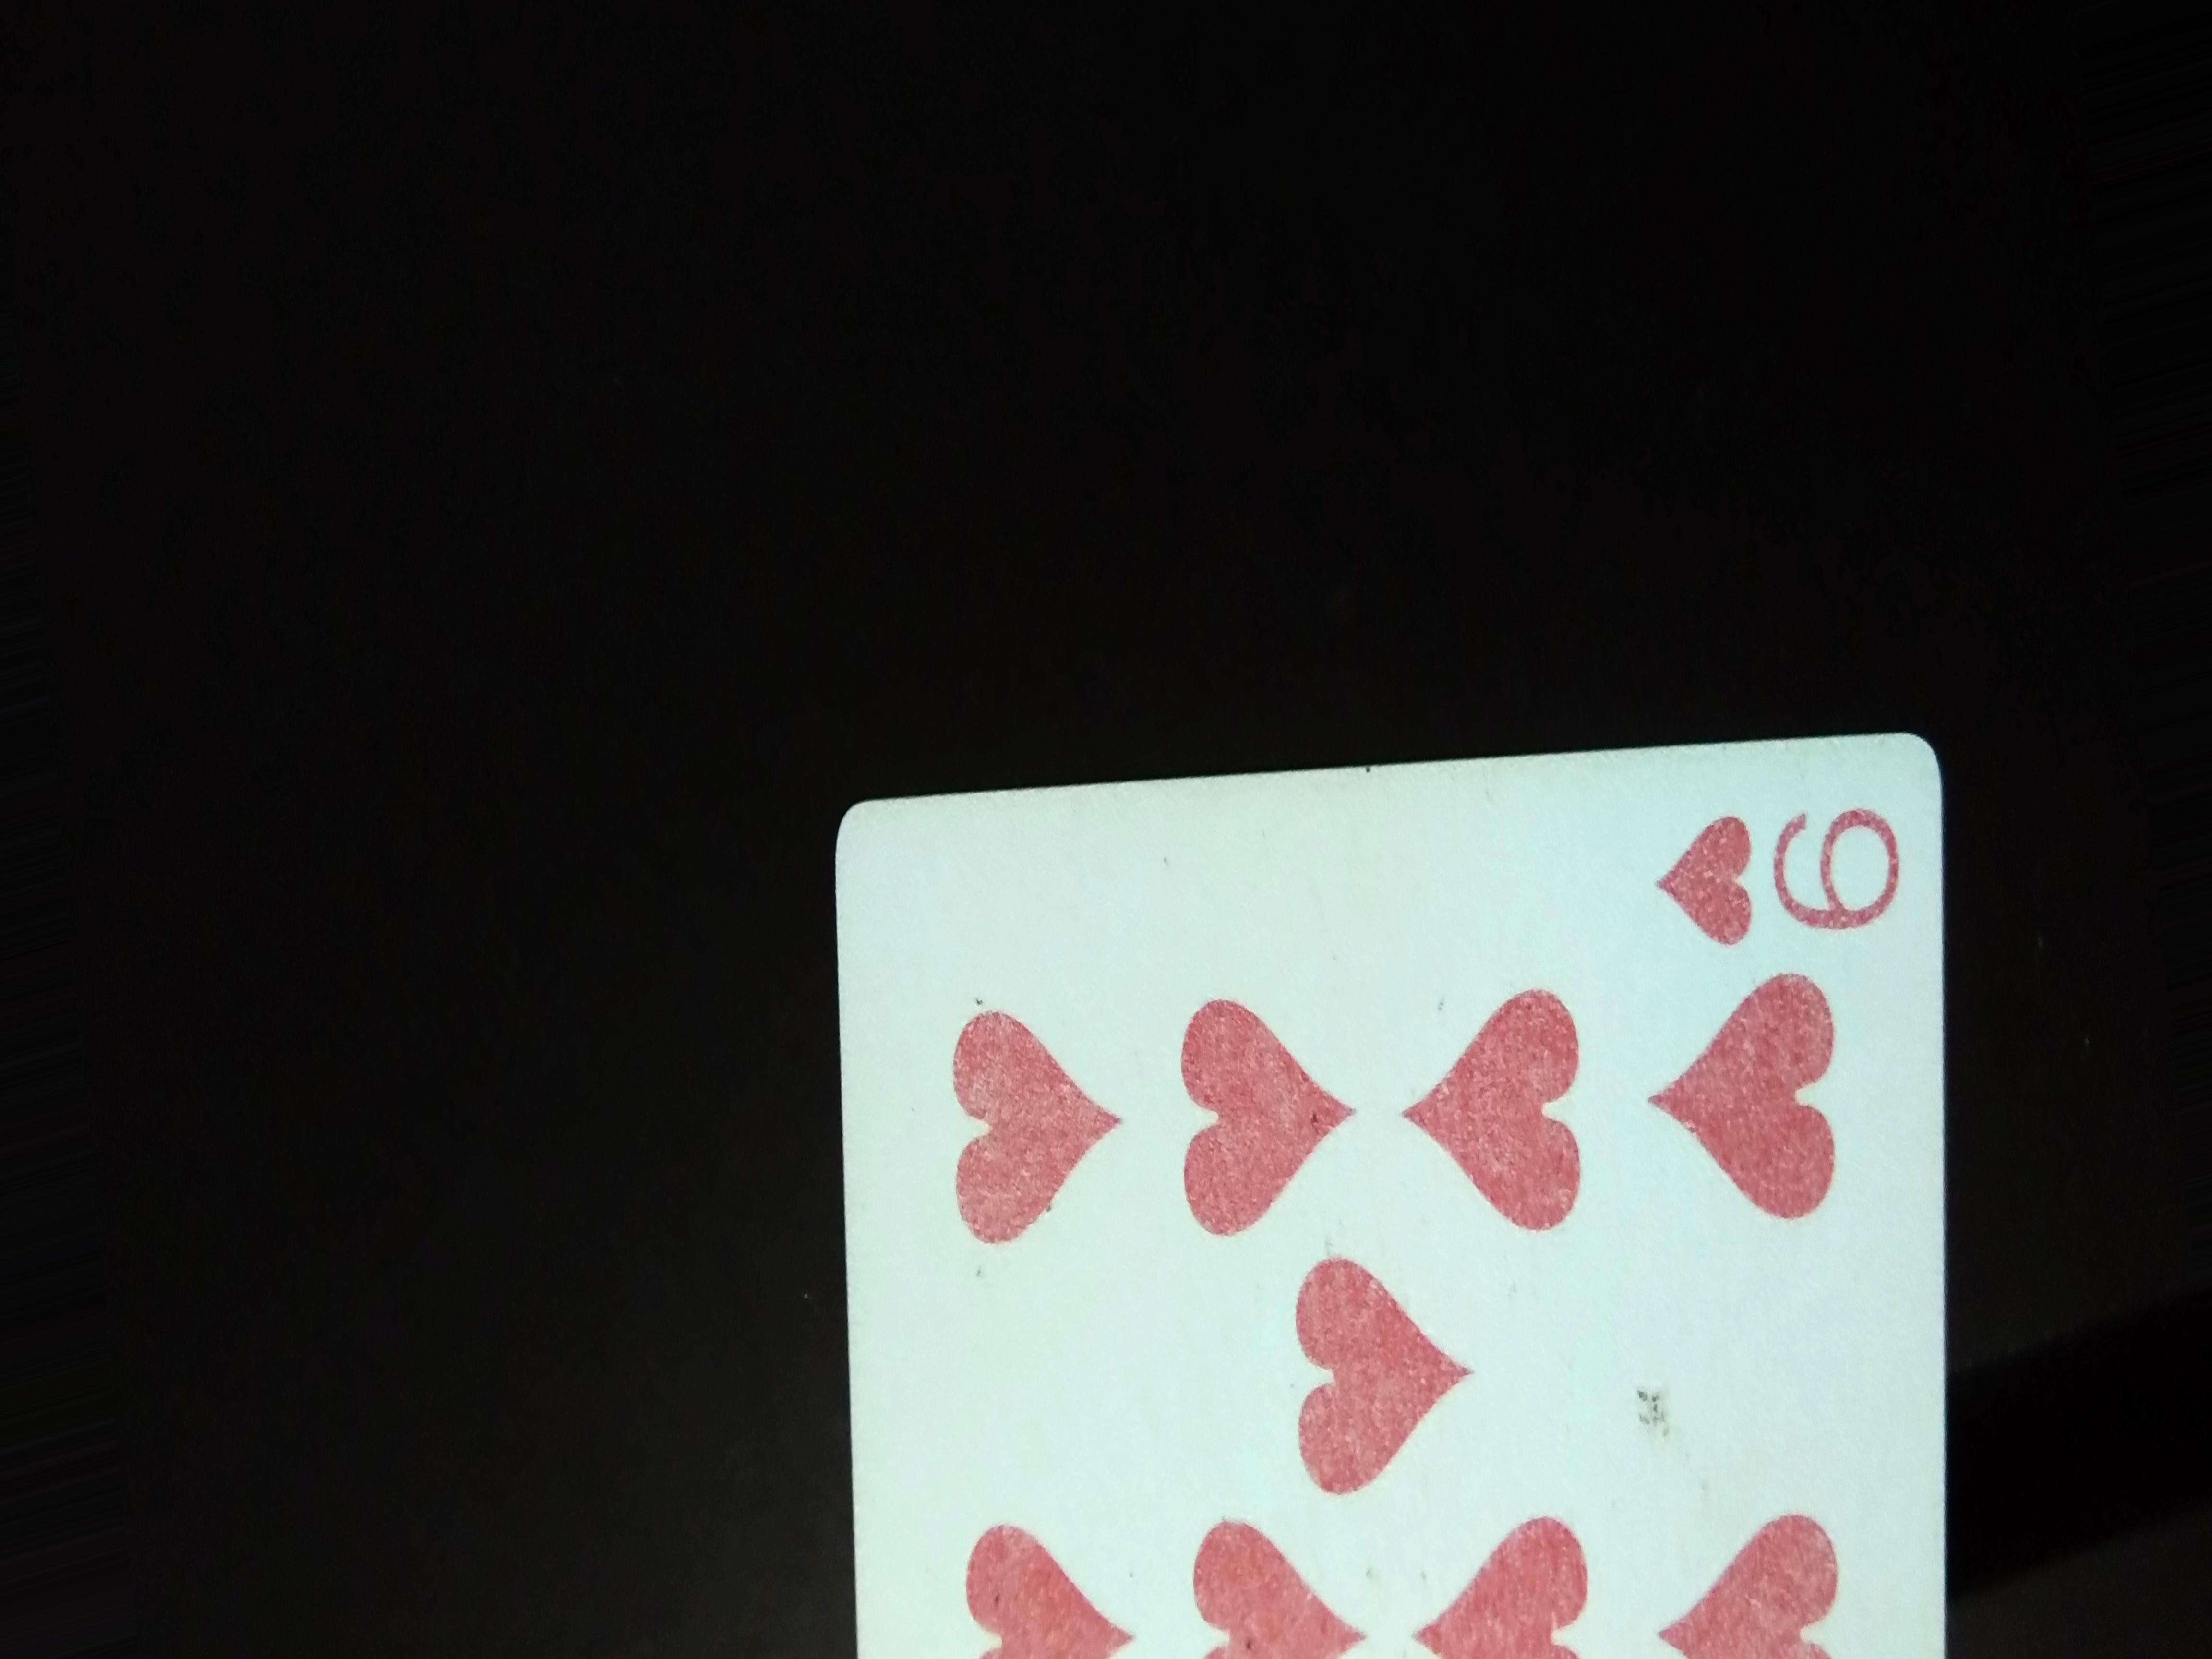9H: (1651, 775, 1921, 955)
